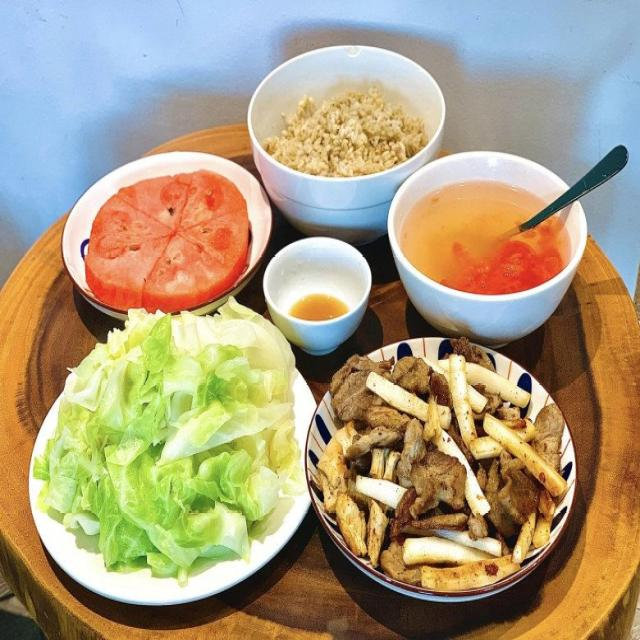bap cai luoc: (31, 300, 300, 586)
nuoc mam: (289, 293, 348, 321)
